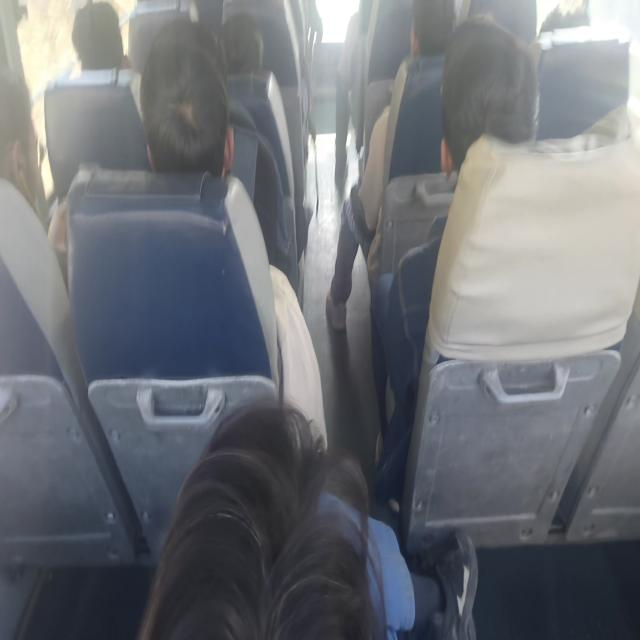person: (432, 48, 530, 184), (152, 37, 229, 172), (0, 78, 55, 205), (72, 0, 126, 65), (418, 0, 465, 66), (219, 17, 268, 78), (535, 5, 599, 42)
